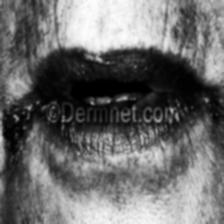Toxin: (0, 104, 34, 166), (202, 81, 224, 136)
